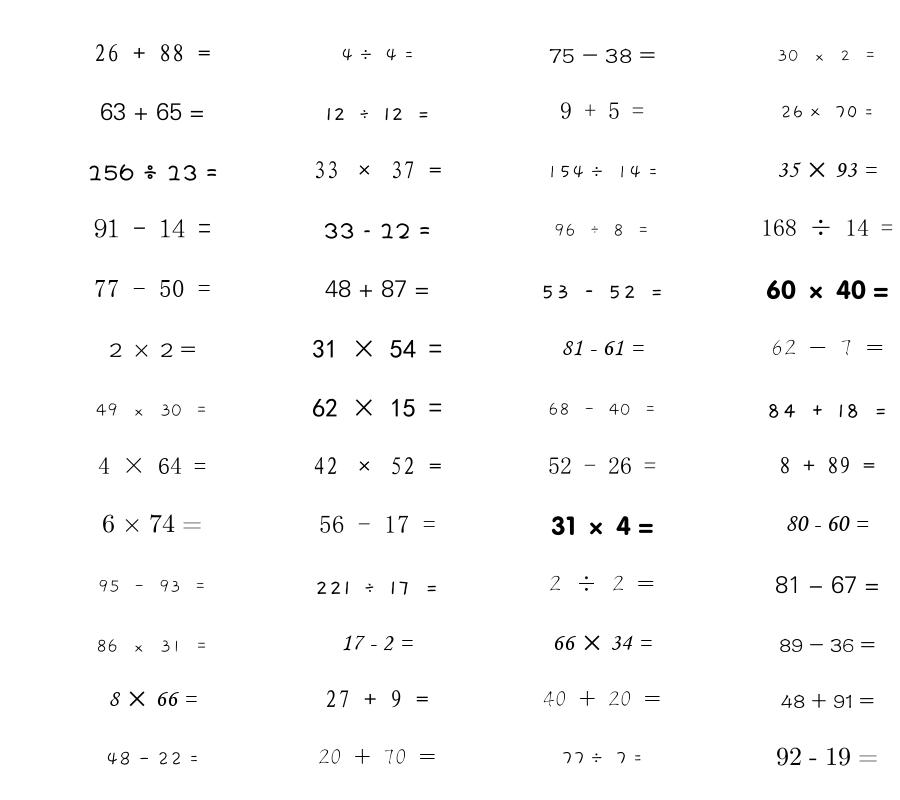MQ: (312, 339, 442, 358), (312, 398, 442, 417), (766, 280, 889, 300), (94, 218, 211, 238), (313, 161, 442, 179), (313, 457, 442, 475), (761, 219, 893, 236), (87, 164, 218, 181), (94, 44, 211, 62), (319, 515, 436, 533), (551, 516, 654, 536), (100, 102, 205, 121), (775, 575, 880, 594), (94, 280, 211, 297), (776, 747, 878, 766), (771, 339, 884, 356), (102, 514, 202, 533), (325, 280, 430, 298), (543, 691, 661, 707), (318, 749, 436, 765), (325, 690, 429, 708), (98, 457, 206, 474), (548, 457, 656, 474), (766, 403, 888, 418), (540, 285, 664, 299), (315, 581, 439, 595), (323, 223, 431, 239), (779, 456, 875, 474), (549, 575, 655, 591), (549, 48, 656, 63), (777, 162, 877, 178), (552, 635, 652, 651), (546, 165, 658, 179), (96, 403, 208, 417), (96, 639, 208, 653), (548, 402, 657, 416), (98, 579, 207, 593), (781, 693, 874, 709), (560, 102, 644, 119), (108, 691, 197, 707), (106, 751, 199, 766), (325, 108, 430, 121), (554, 223, 650, 237), (779, 638, 875, 652), (561, 340, 644, 356), (780, 105, 874, 119), (777, 49, 877, 62), (785, 516, 869, 531), (109, 343, 196, 357), (341, 635, 413, 651), (561, 751, 643, 765), (341, 48, 414, 62)
